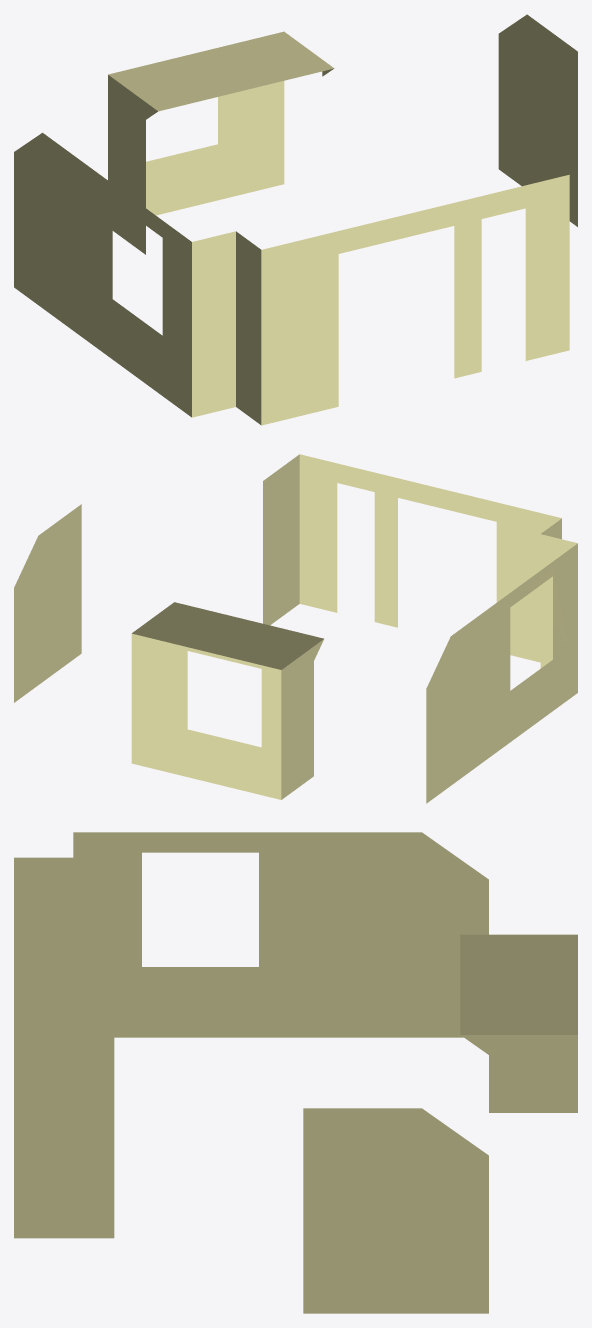
File: 5_material2_pareti.fbx
3 views of the same model, one above another, from view 1: azimuth 30°, elevation 25°; view 2: azimuth 150°, elevation 25°; view 3: azimuth 270°, elevation 25° (orthographic). The views are drawn at different scales.
Parts seen in each view (by area): view 1: 5_material2_pareti; view 2: 5_material2_pareti; view 3: 5_material2_pareti.
Boxes of the visible parts, x1,y1,x2,y2 form: 5_material2_pareti: (14,14,577,425); 5_material2_pareti: (14,454,577,803); 5_material2_pareti: (14,832,577,1313).
Bounding box in the file's own units: 5159 × 1788 × 4455.
